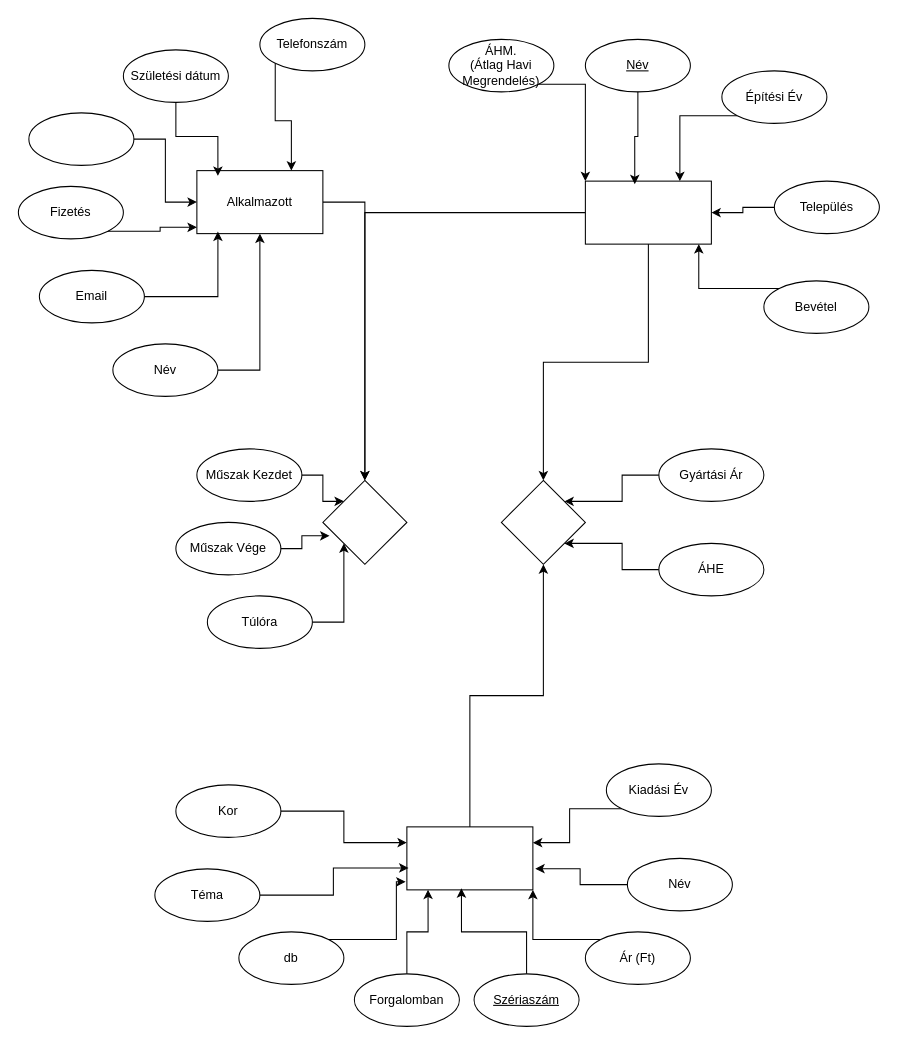
This 898x1045 diagram has some shape labels left out. The shapes that lost their labels are listed below. From the top down, each one's centre as x and y in pixels, then its label:
At [81,138]: "TAJ szám".
At [647,212]: "Gyár".
At [364,521]: "Beosztás".
At [542,521]: "GyártásiSor".
At [469,858]: "Szett".
